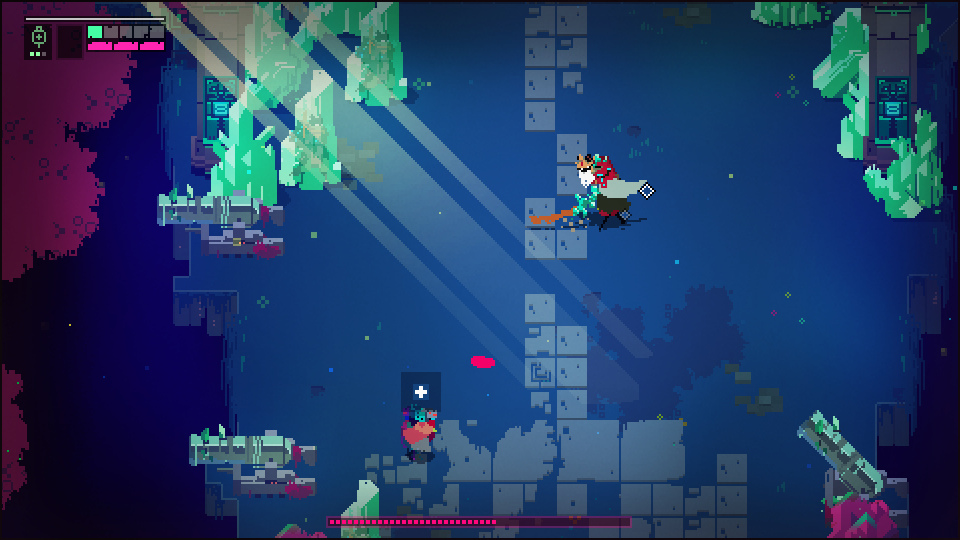hanged_man: (547, 149, 649, 226)
player: (407, 412, 438, 461)
